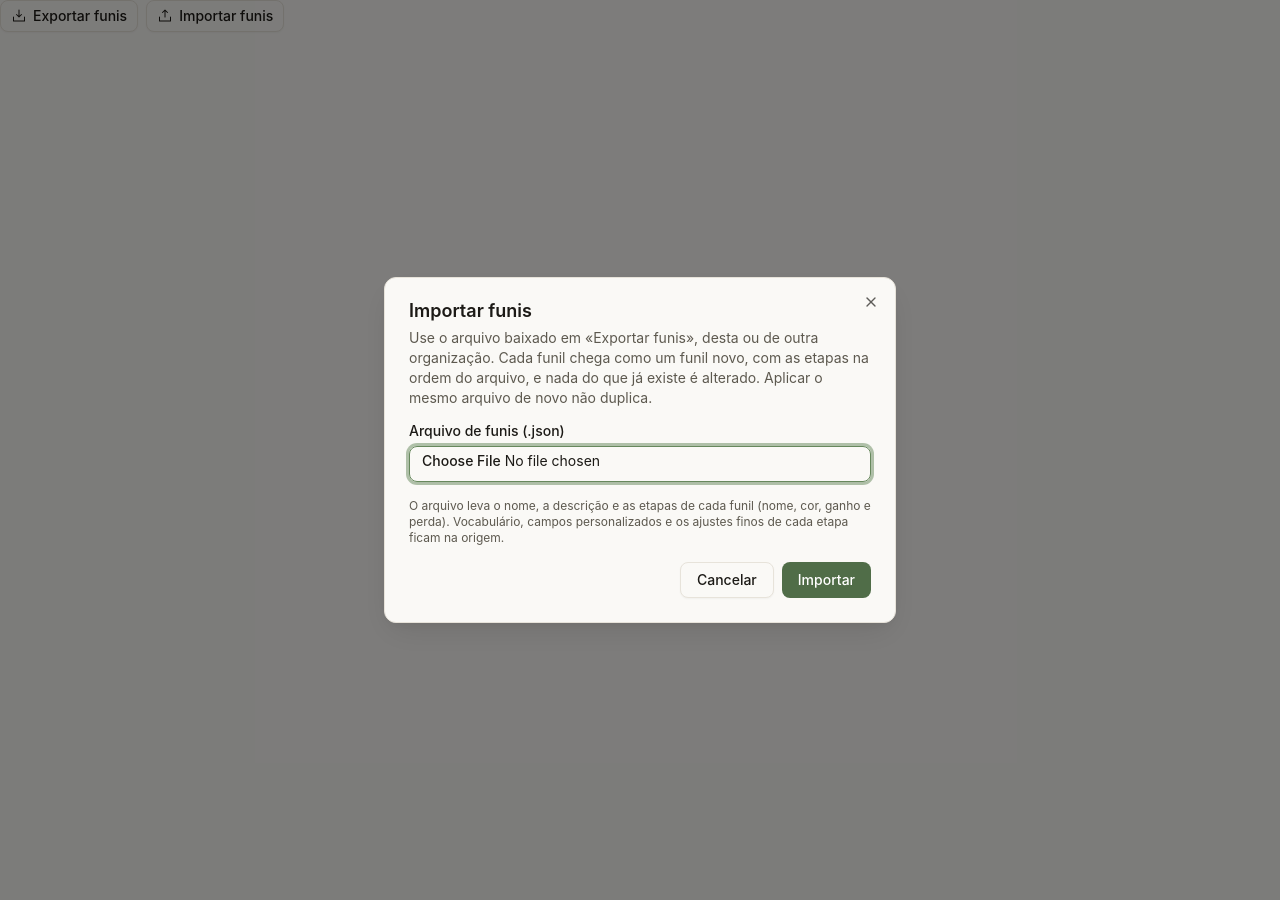
Scenario: Importar funis › Fechar e reabrir volta ao formulário, sem o resultado anterior
Earlier steps of the test are not shown.
Click the button "Importar".
click(826, 580)  # box [782, 562, 871, 598]
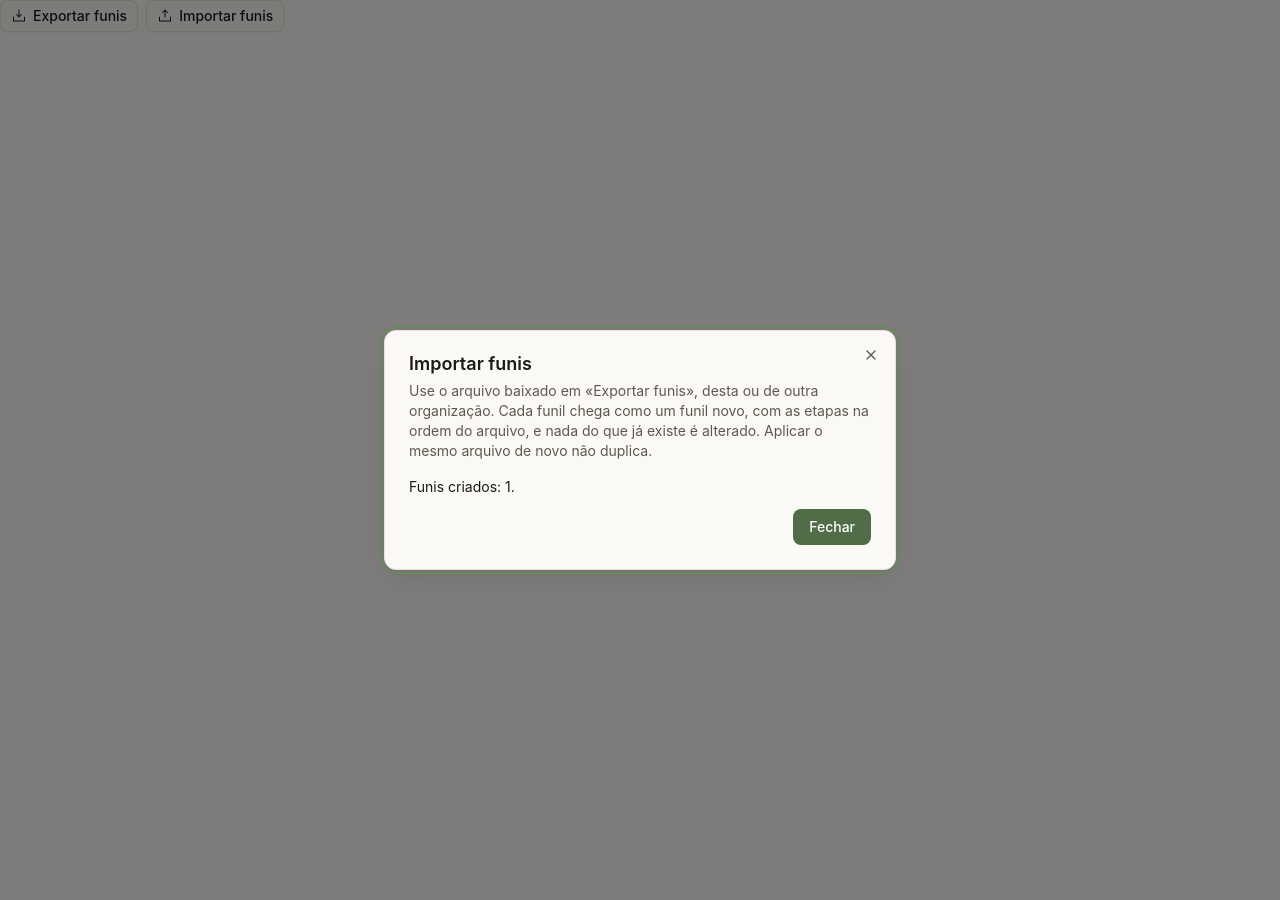
Click the button "Fechar".
click(832, 527)  # box [793, 509, 871, 545]
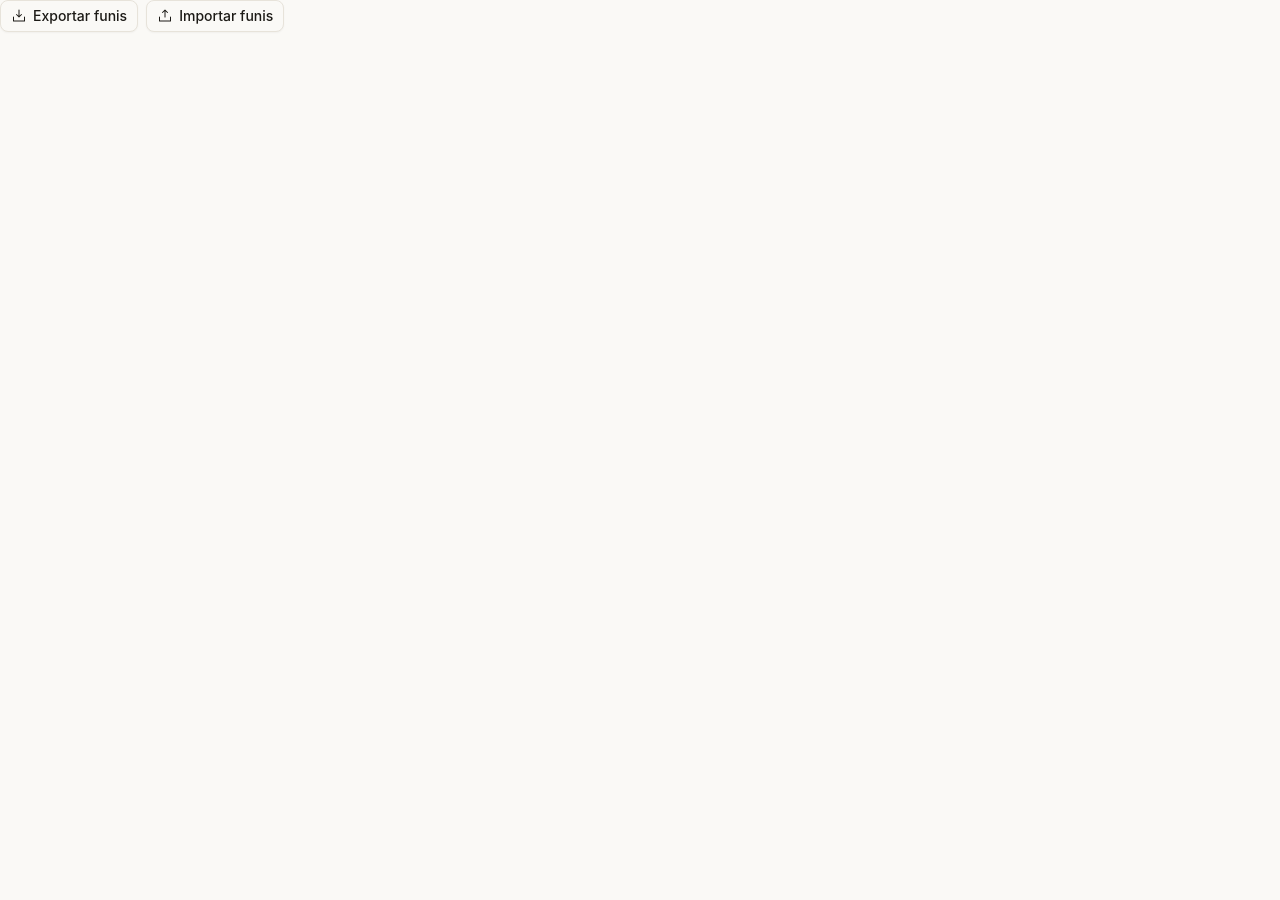
Click the button with test id "importar-funis".
click(215, 16)  # box [146, 0, 284, 32]
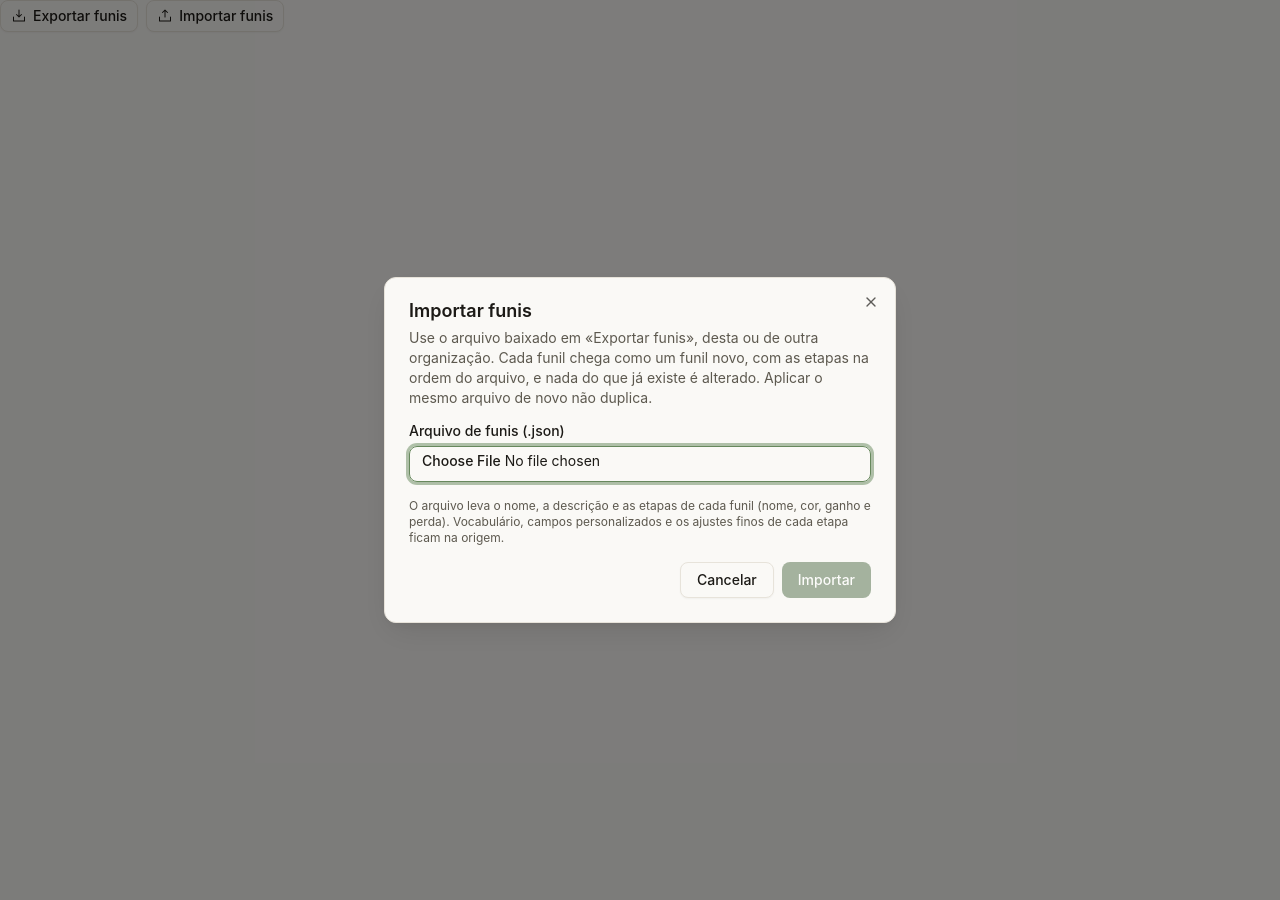
Expected: the text "Funis criados: 1." is not shown
Result: the file field labelled "Arquivo de funis (.json)" is shown at [409, 446, 871, 482]
